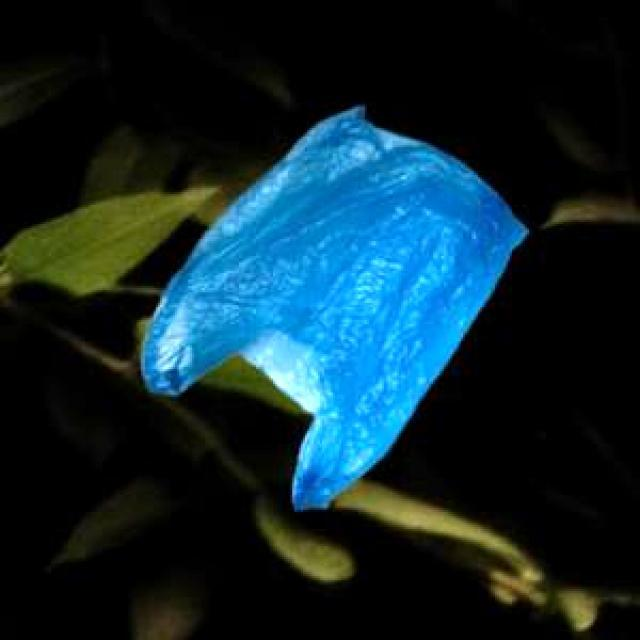Plastic_Bag: (140, 104, 526, 506)
